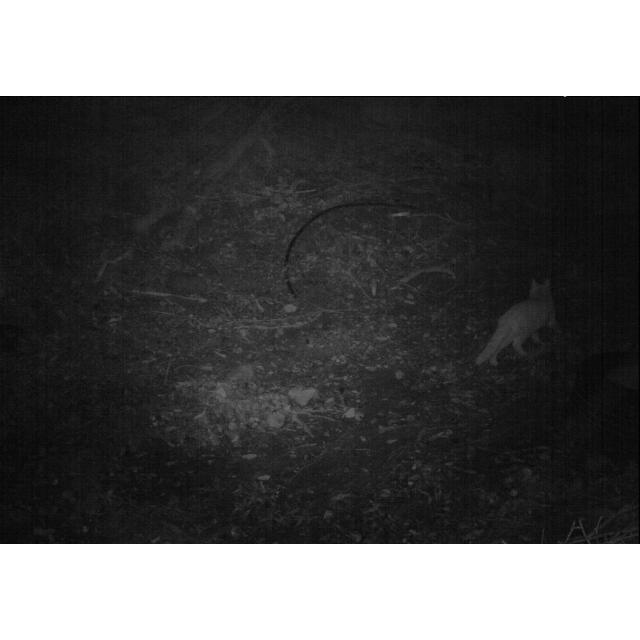animals: (477, 275, 568, 369)
